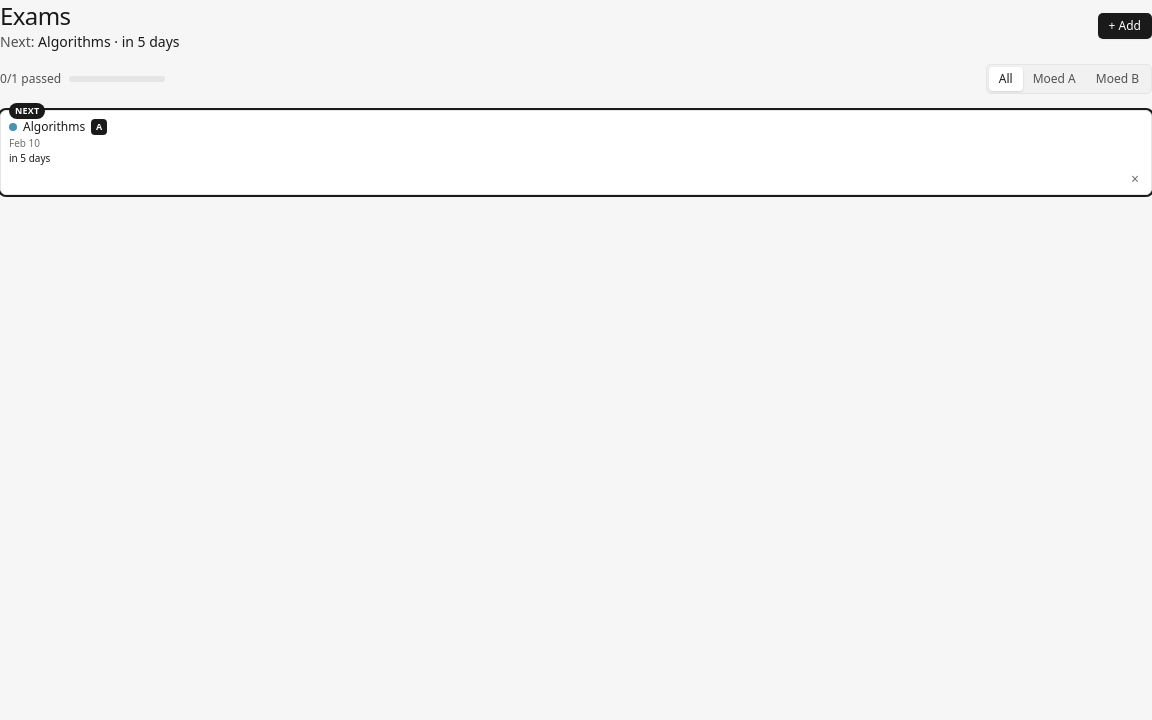
Test: ExamRoadmap › keeps a custom exam editable inside a shared box
The image size is (1152, 720).
// Add a custom exam on the SAME day so it shares Algorithms' box.
Click the button "+ Add": [1125, 26] box [1098, 13, 1151, 39]
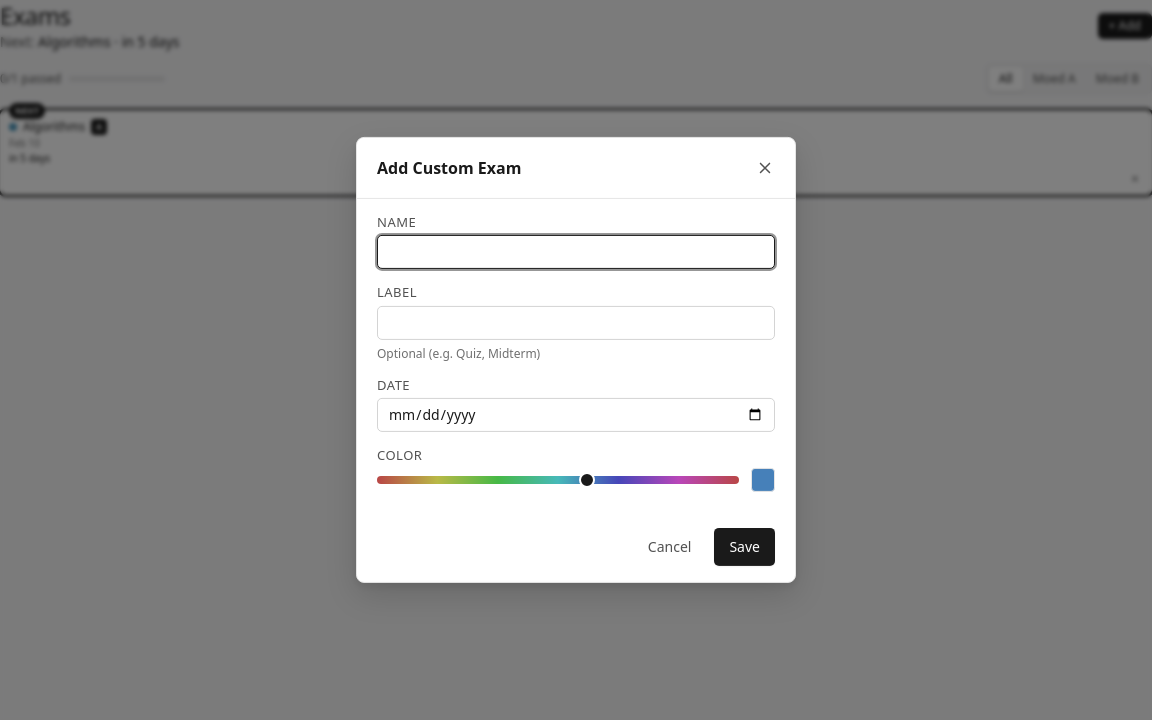
In the field labelled "Name": [576, 252] box [377, 235, 775, 269], type "Pop Quiz"
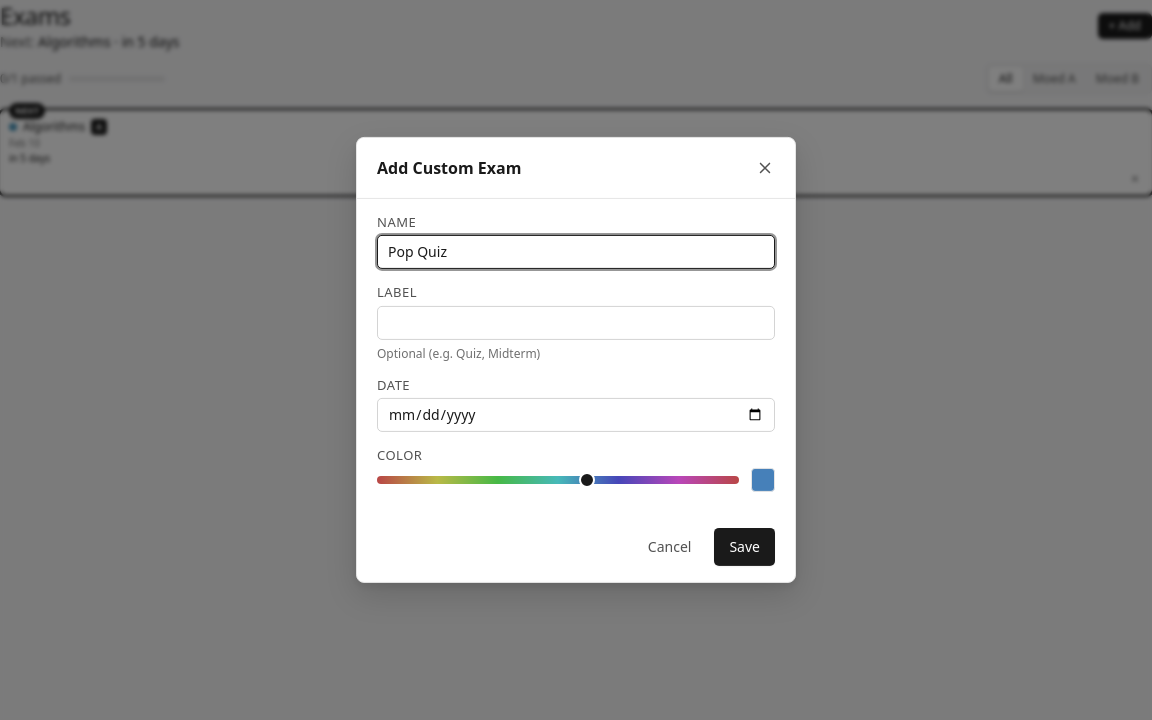
In the date field labelled "Date": [576, 415] box [377, 398, 775, 432], type "2026-02-10"
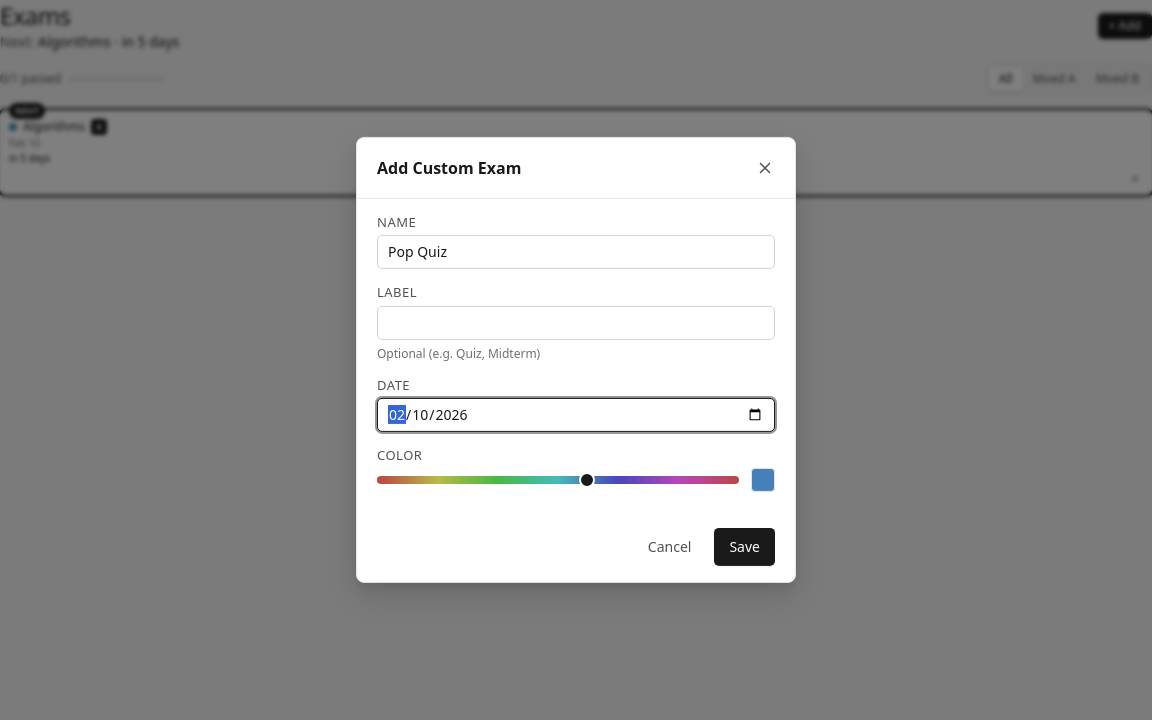
Click the button "Save": [745, 547] box [714, 528, 775, 566]
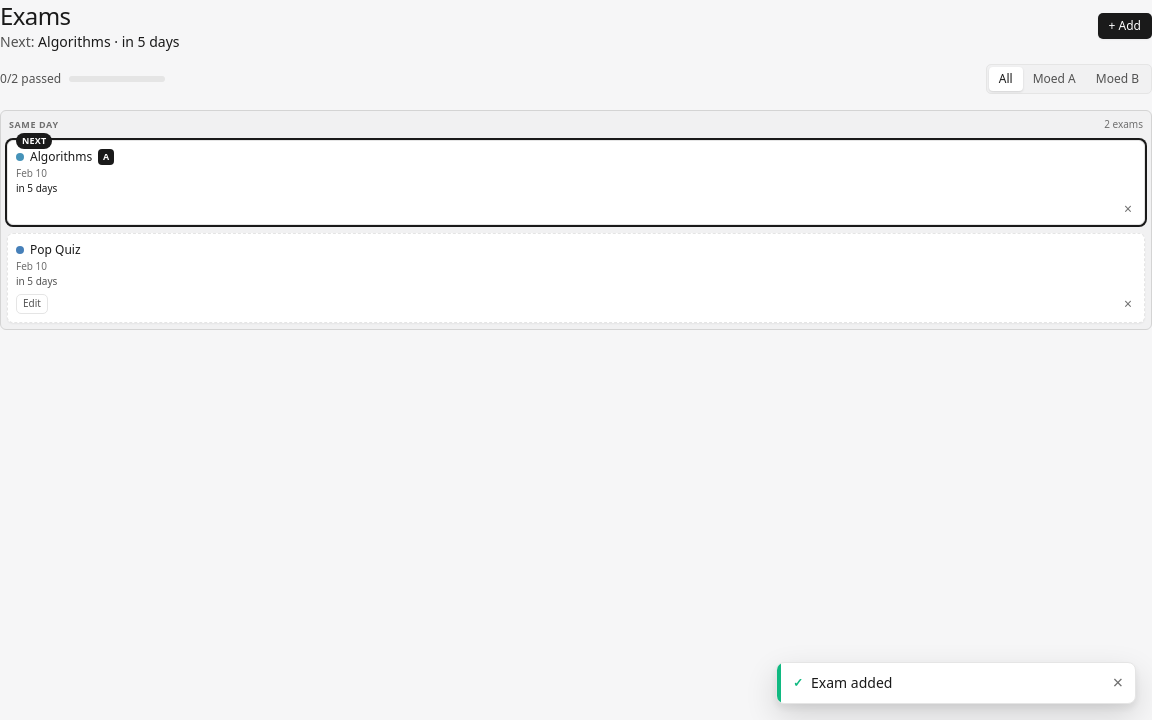
// The custom row exposes an Edit affordance that reopens its dialog.
Click the button with aria-label "Edit Pop Quiz": [32, 304] box [16, 294, 48, 314]
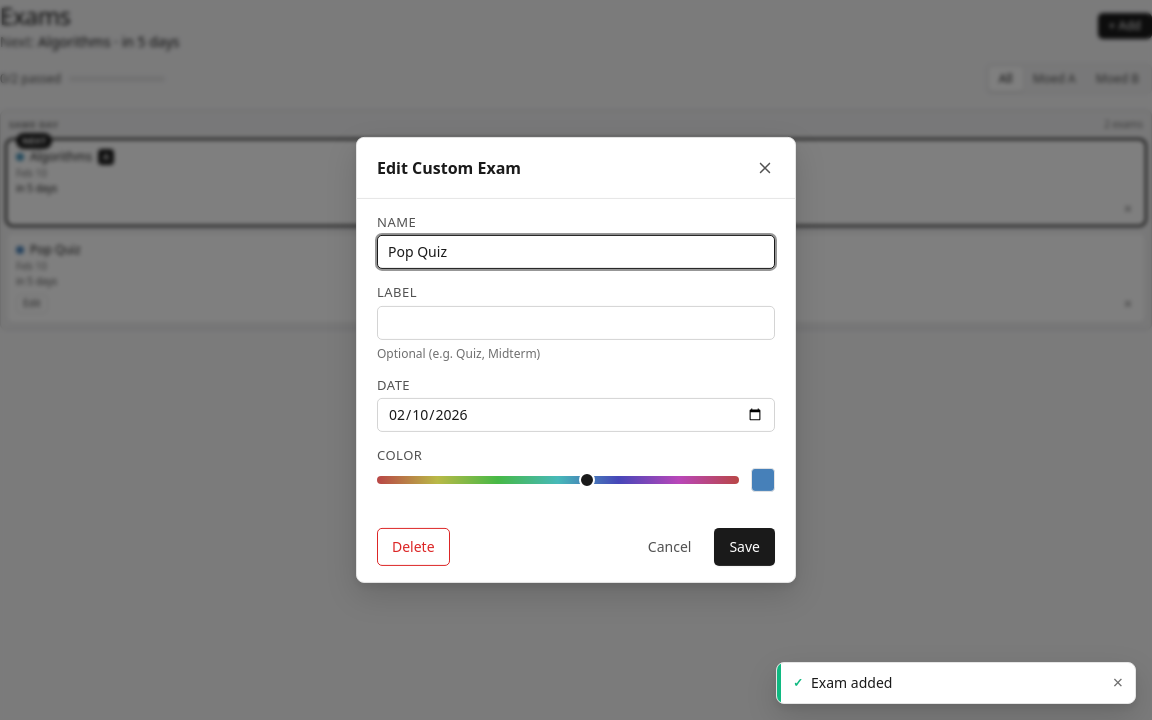
Now the date field labelled "Date" holds "2026-02-10", box [377, 398, 775, 432]
